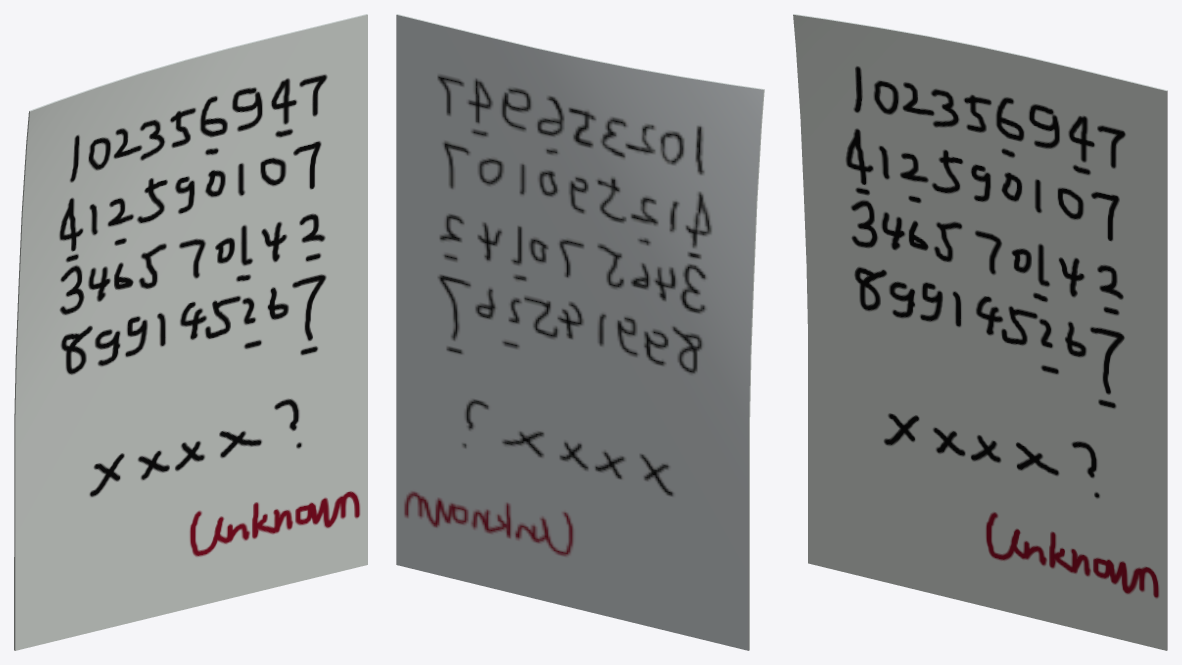
Rendered from A weird note.fbx.
The picture shows the model from 3 angles, left to right: view 1: azimuth 30°, elevation 25°; view 2: azimuth 150°, elevation 25°; view 3: azimuth 330°, elevation 25°; orthographic projection.
Parts seen in each view (by area): view 1: node_id36; view 2: node_id36; view 3: node_id36.
Boxes of the visible parts, x1,y1,x2,y2 form: node_id36: (14, 14, 367, 650); node_id36: (396, 14, 764, 650); node_id36: (793, 14, 1167, 650).
Bounding box in the file's own units: 0.3434 × 0.512 × 0.0267.
Materials: 1 (1 with a texture image).
